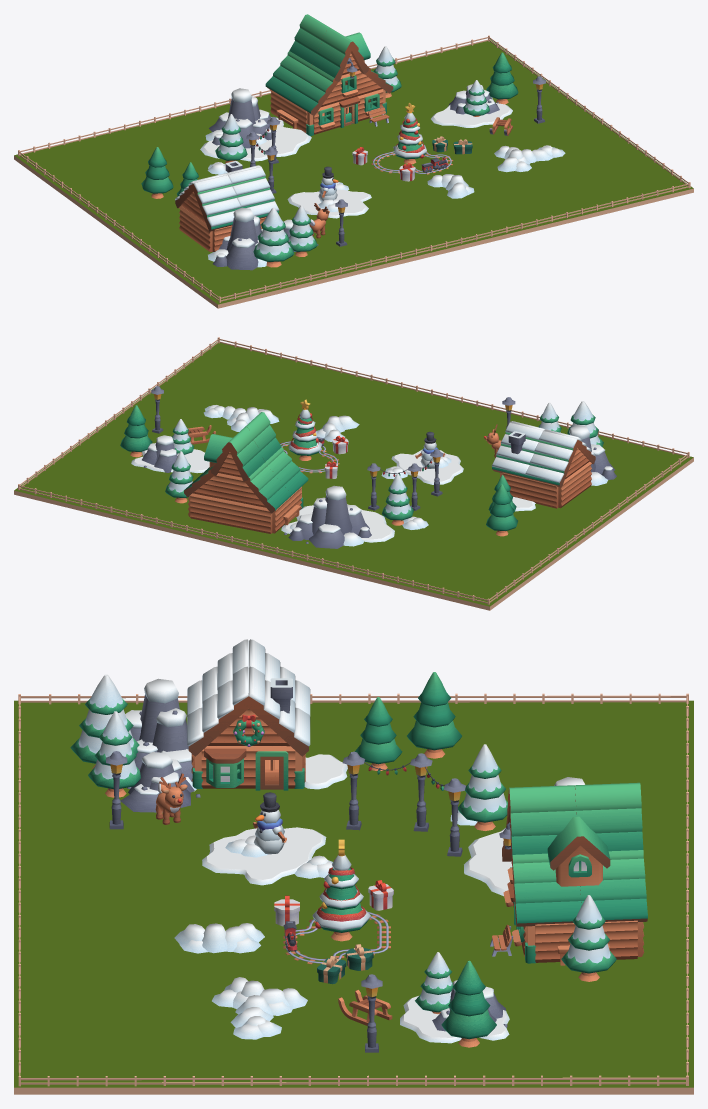
The model's file is Level1Map.glb.
The picture shows the model from 3 angles, top to bottom: view 1: azimuth 30°, elevation 25°; view 2: azimuth 150°, elevation 25°; view 3: azimuth 270°, elevation 25°; orthographic projection. The views are drawn at different scales.
Parts seen in each view (by area): view 1: cliff_block_rock, rocks-large, rocks-large.001, cabin-roof-snow.001, cabin-roof-snow, cabin-roof-point, tree-snow-a.002, snow-flat-large.002, cabin-roof.002, snow-flat-large.001, cabin-roof.003, tree-decorated-snow.001 (+16 smaller); view 2: cliff_block_rock, rocks-large.001, cabin-roof-snow.002, cabin-roof-snow-chimney, cabin-roof-point.001, cabin-roof.003, tree-decorated-snow.001, snow-flat-large.001, rocks-large, cabin-roof.002, tree.002, tree-snow-a.004 (+18 smaller); view 3: cliff_block_rock, cabin-roof-point, rocks-large, cabin-roof, cabin-roof-point.001, snow-flat-large.001, cabin-roof.001, cabin-roof-dormer, cabin-roof-snow-chimney, tree-decorated-snow.001, cabin-roof-snow, tree (+32 smaller).
Boxes of the visible parts, bbox=[...] form: cliff_block_rock: bbox=[14, 39, 693, 308]; rocks-large: bbox=[208, 207, 266, 270]; rocks-large.001: bbox=[205, 88, 275, 148]; cabin-roof-snow.001: bbox=[193, 175, 241, 231]; cabin-roof-snow: bbox=[228, 166, 279, 218]; cabin-roof-point: bbox=[312, 28, 368, 81]; tree-snow-a.002: bbox=[253, 207, 294, 267]; snow-flat-large.002: bbox=[200, 117, 311, 161]; cabin-roof.002: bbox=[288, 64, 338, 115]; snow-flat-large.001: bbox=[287, 189, 371, 218]; cabin-roof.003: bbox=[265, 51, 311, 100]; tree-decorated-snow.001: bbox=[393, 103, 426, 164]; cliff_block_rock: bbox=[14, 342, 693, 610]; rocks-large.001: bbox=[284, 485, 371, 548]; cabin-roof-snow.002: bbox=[525, 430, 577, 487]; cabin-roof-snow-chimney: bbox=[491, 422, 542, 477]; cabin-roof-point.001: bbox=[210, 427, 264, 481]; cabin-roof.003: bbox=[244, 462, 291, 513]; tree-decorated-snow.001: bbox=[288, 399, 321, 460]; snow-flat-large.001: bbox=[391, 449, 463, 484]; rocks-large: bbox=[569, 425, 616, 485]; cabin-roof.002: bbox=[265, 447, 308, 495]; tree.002: bbox=[486, 484, 517, 536]; tree-snow-a.004: bbox=[382, 473, 413, 525]; cliff_block_rock: bbox=[14, 700, 693, 1094]; cabin-roof-point: bbox=[506, 785, 576, 859]; rocks-large: bbox=[125, 678, 196, 791]; cabin-roof: bbox=[512, 853, 581, 926]; cabin-roof-point.001: bbox=[574, 782, 643, 851]; snow-flat-large.001: bbox=[202, 827, 326, 885]; cabin-roof.001: bbox=[580, 850, 647, 921]; cabin-roof-dormer: bbox=[547, 816, 610, 886]; cabin-roof-snow-chimney: bbox=[248, 666, 310, 756]; tree-decorated-snow.001: bbox=[312, 839, 370, 941]; cabin-roof-snow: bbox=[187, 666, 248, 756]; tree: bbox=[441, 960, 496, 1047].
Bounding box in the file's own units: 96.21 × 17.22 × 71.44.
335 materials, 117 textured.
